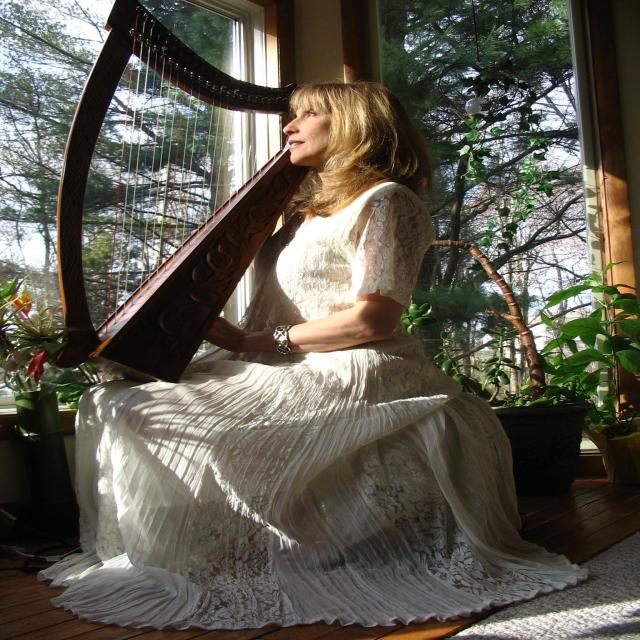harp: (50, 0, 339, 388)
